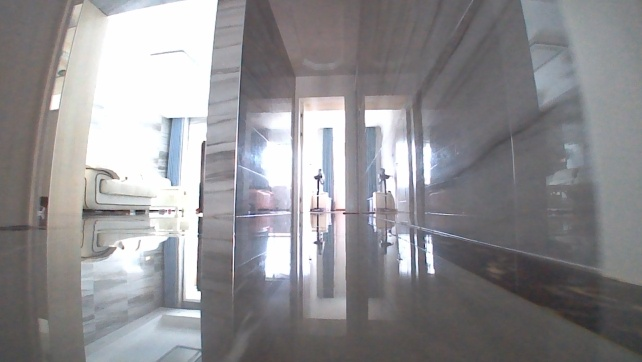sofa1: (80, 165, 156, 213)
